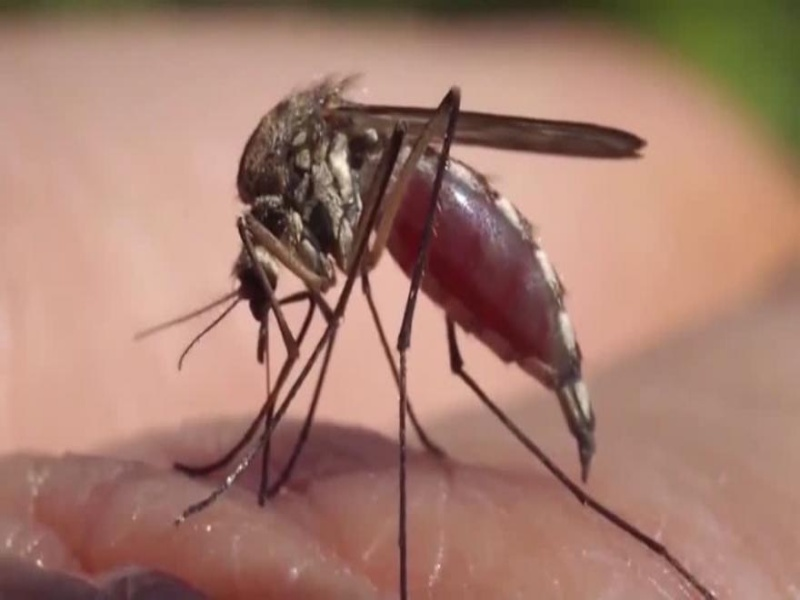dengue_mosquito: (224, 74, 585, 394)
